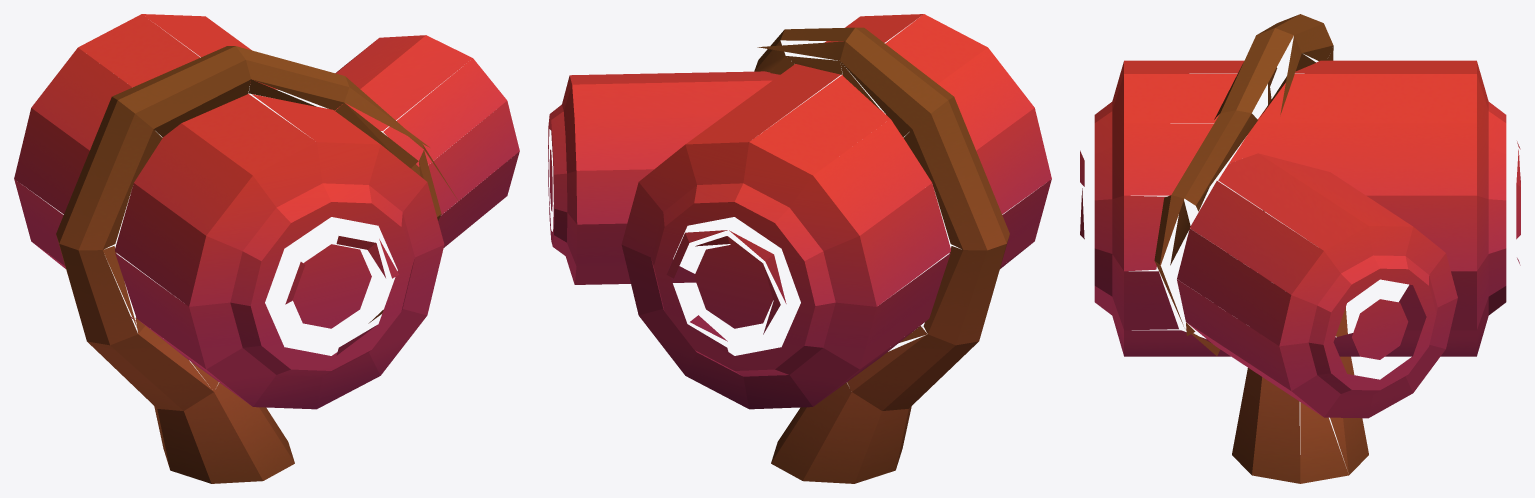
Rendered from BiggerBush.glb.
3 renders of one model, left to right at view 1: azimuth 30°, elevation 25°; view 2: azimuth 150°, elevation 25°; view 3: azimuth 270°, elevation 25°, orthographic.
Visible parts, largest first — view 1: Bush; view 2: Bush; view 3: Bush.
Boxes of the visible parts, left/top/right/bottom form: Bush: left=14, top=14, right=519, bottom=483; Bush: left=548, top=14, right=1051, bottom=483; Bush: left=1080, top=14, right=1520, bottom=483.
Bounding box in the file's own units: 2.88 × 2.57 × 2.42.
Materials: 1 (1 with a texture image).
